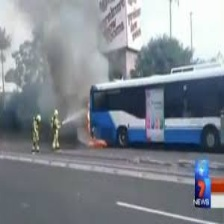smoke: (35, 1, 91, 107)
